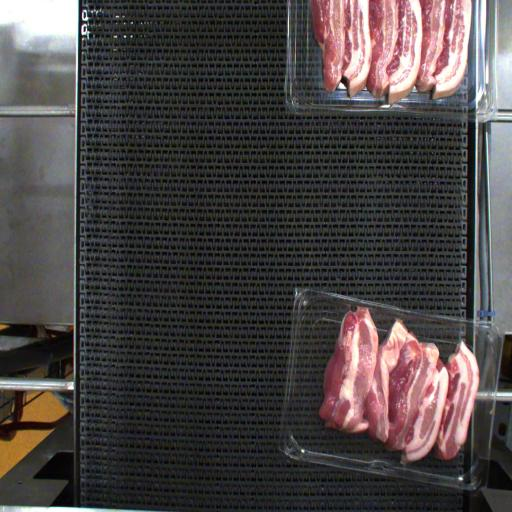packaging-error: (342, 290, 378, 322)
twisted-meat: (368, 322, 411, 436)
